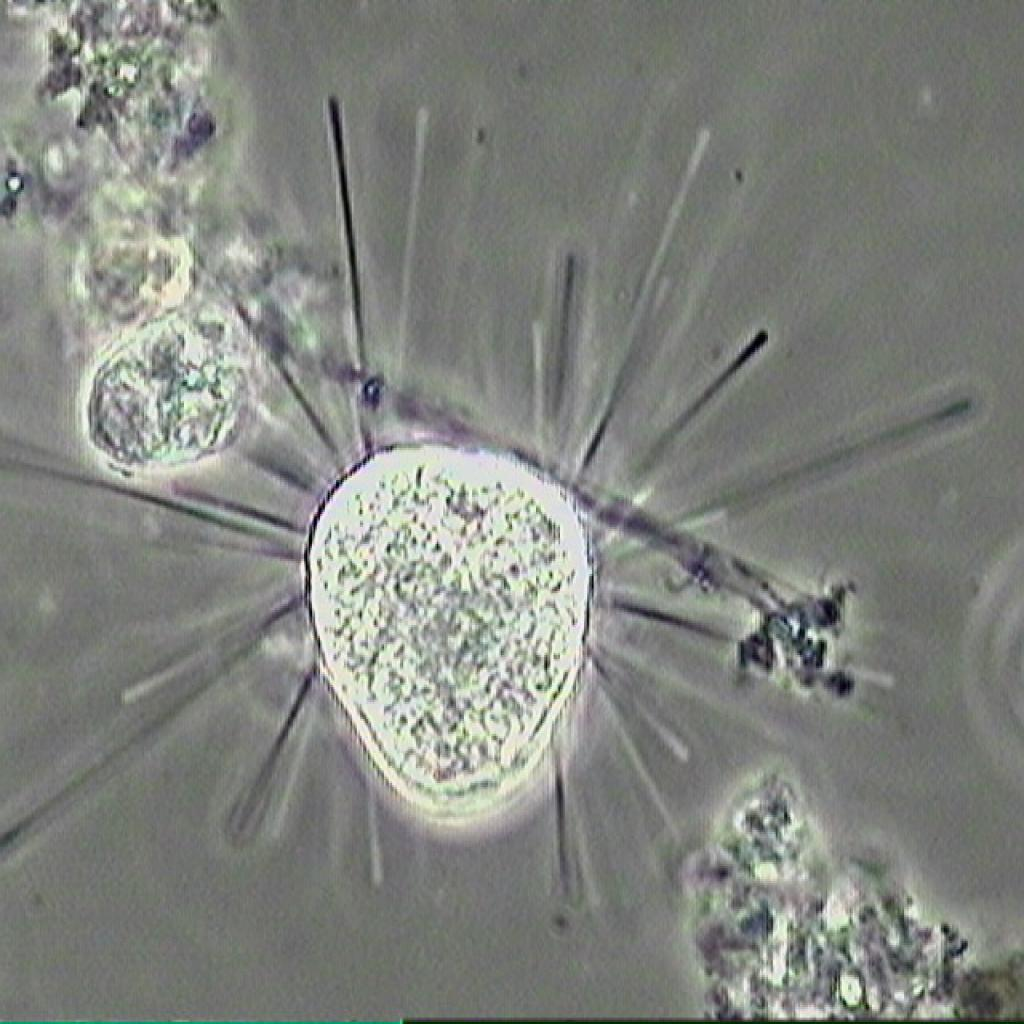Suctorida: (214, 117, 876, 943)
